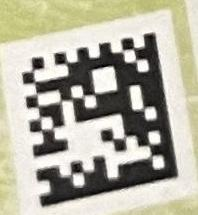datamatrix: (23, 33, 180, 208)
